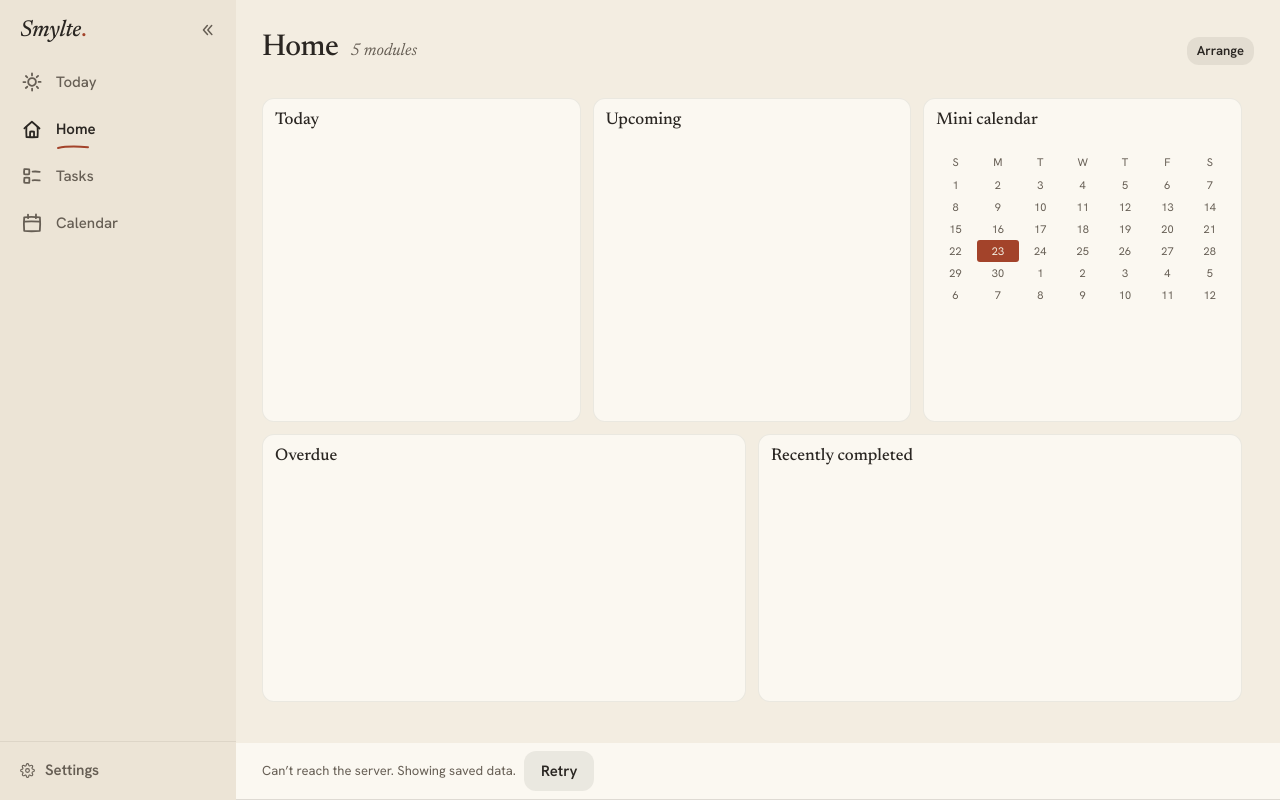
<App> in the Android client: the splash screen › says ready once offline, and not again when a retry signs in
The image size is (1280, 800).
Expected: the message shows "Can’t reach the server", [262,762,516,779]
Click the button "Retry" at x=559, y=771, box [524,751,594,791]
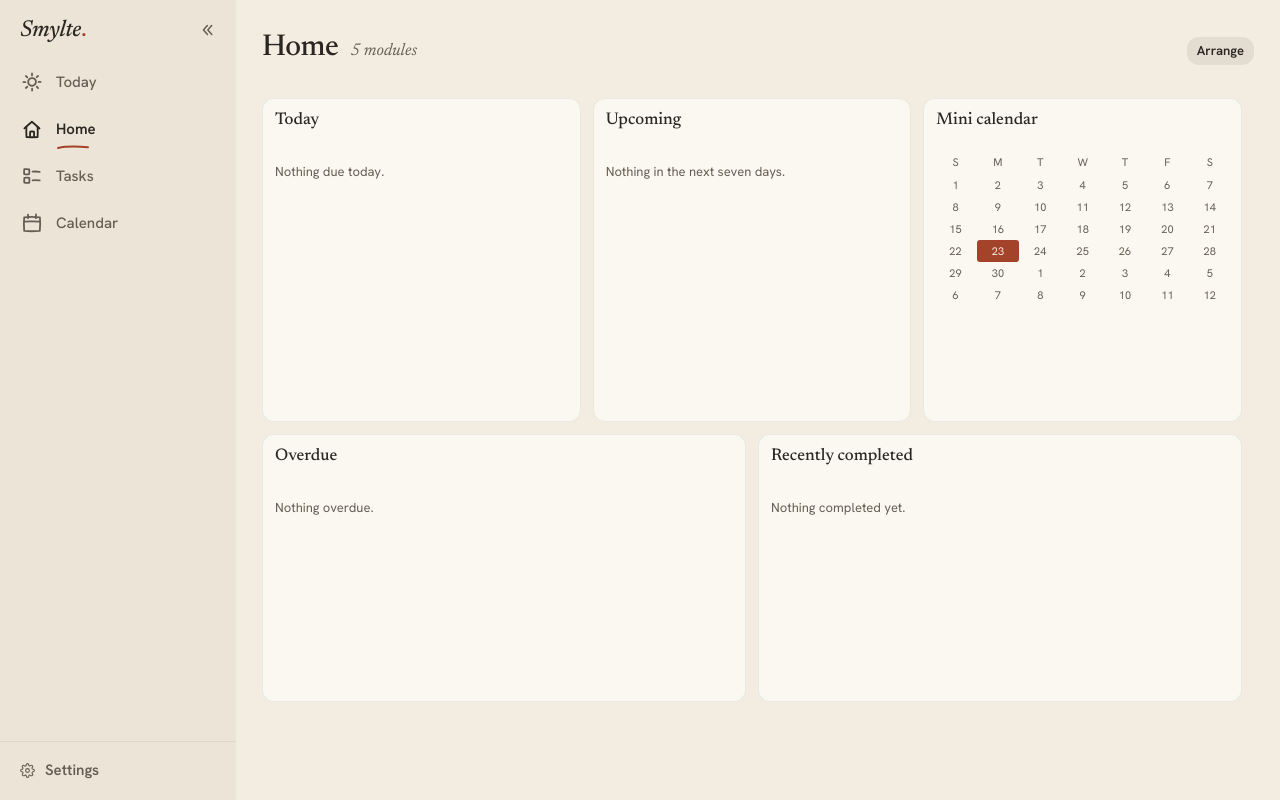
Expected: the message "Can’t reach the server. Showing saved data. Retry" is gone
